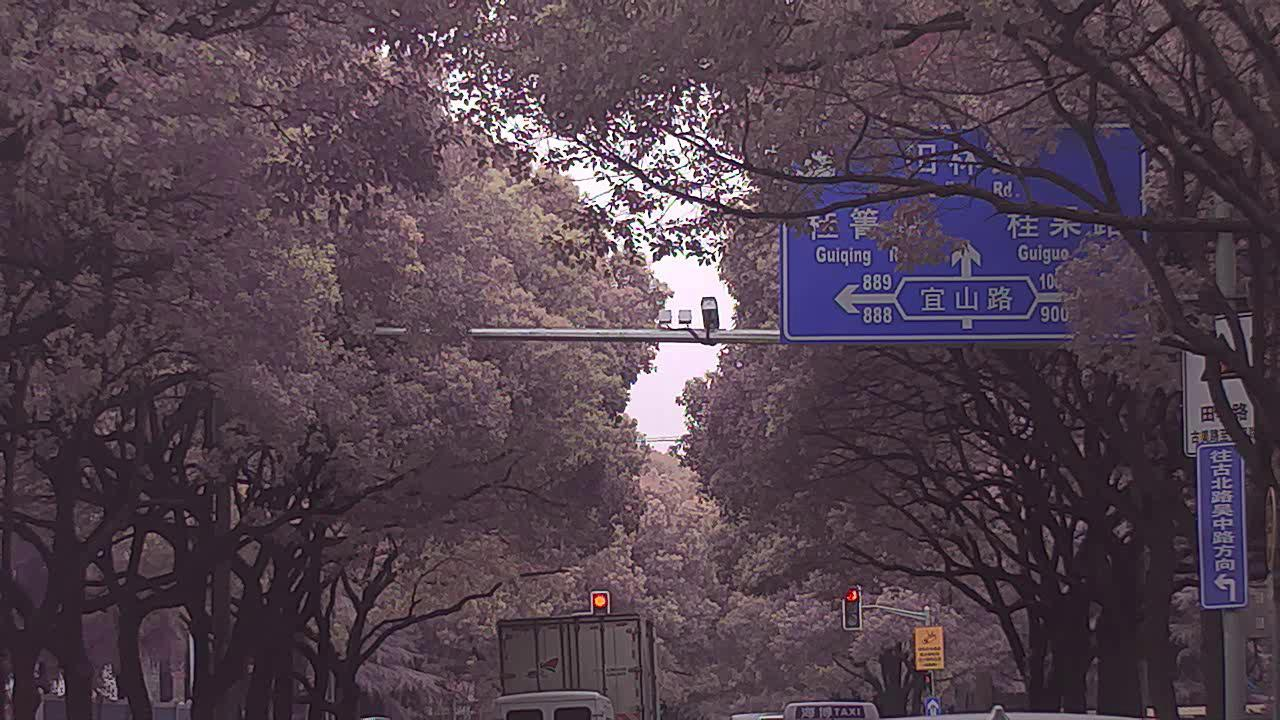traffic_light: (842, 584, 861, 629), (591, 590, 610, 616)
